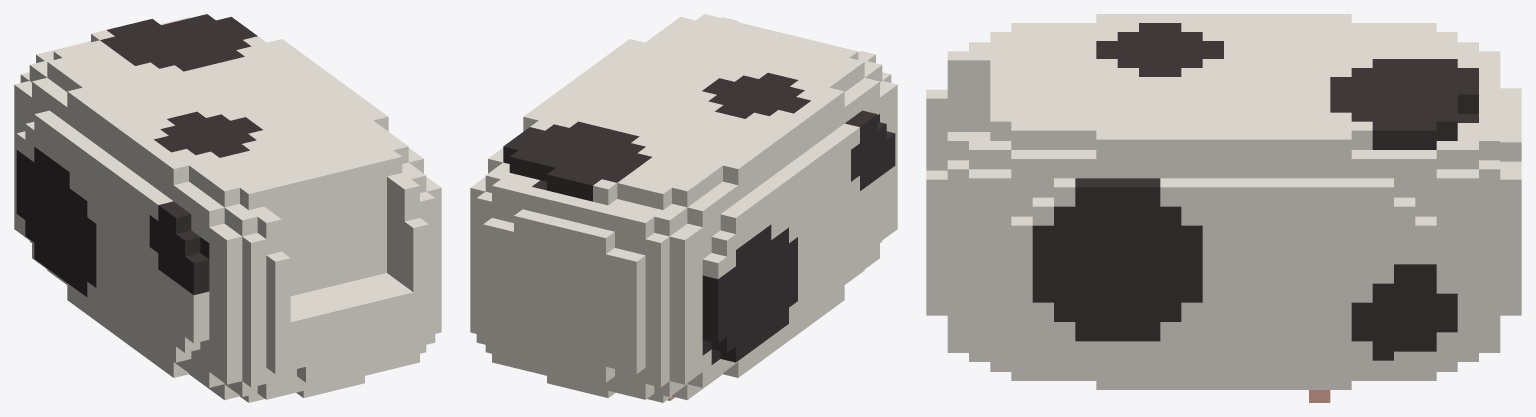
File: cow__body.glb
3 renders of one model, left to right at view 1: azimuth 30°, elevation 25°; view 2: azimuth 150°, elevation 25°; view 3: azimuth 270°, elevation 25°, orthographic. The views are drawn at different scales.
Parts seen in each view (by area): view 1: cow__body; view 2: cow__body; view 3: cow__body.
Boxes of the visible parts, left/top/right/bottom form: cow__body: left=14, top=14, right=441, bottom=402; cow__body: left=470, top=14, right=897, bottom=402; cow__body: left=926, top=14, right=1521, bottom=402.
Size of the model in its own units: 1.6 by 1.6 by 2.8.
1 material, 1 textured.
